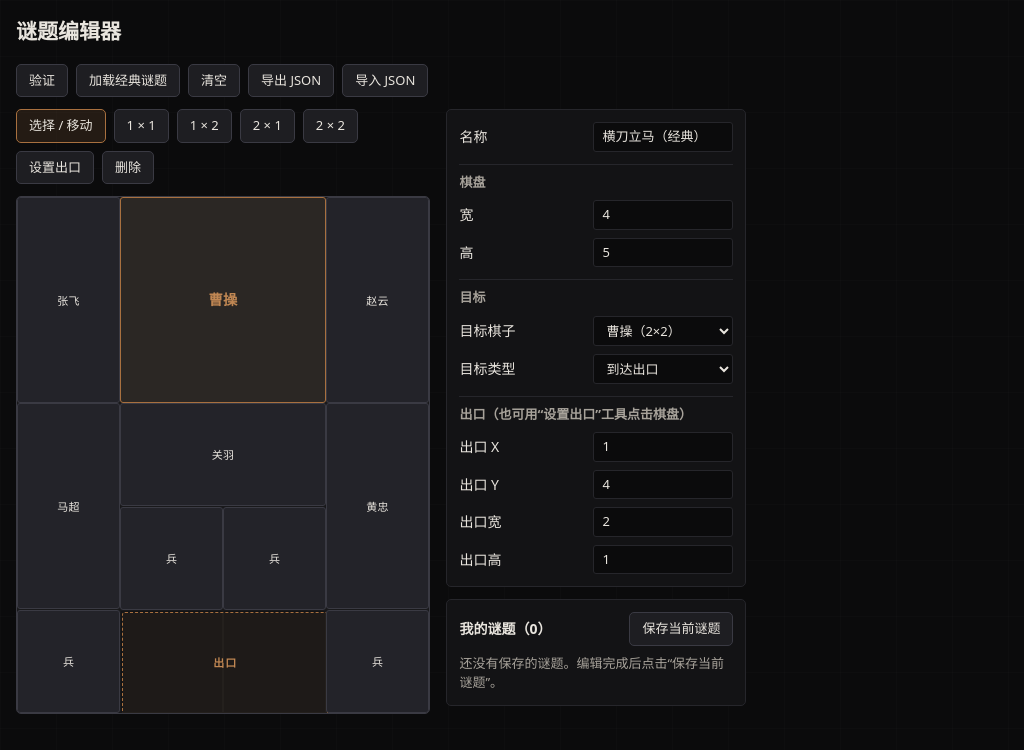
Test: 编辑器选中态 › 属性面板同步标出「已选中」并指出它所在的格位
Press the mouse on the button with aria-label "编辑棋子 曹操" at (223, 300), box [120,197,326,403]
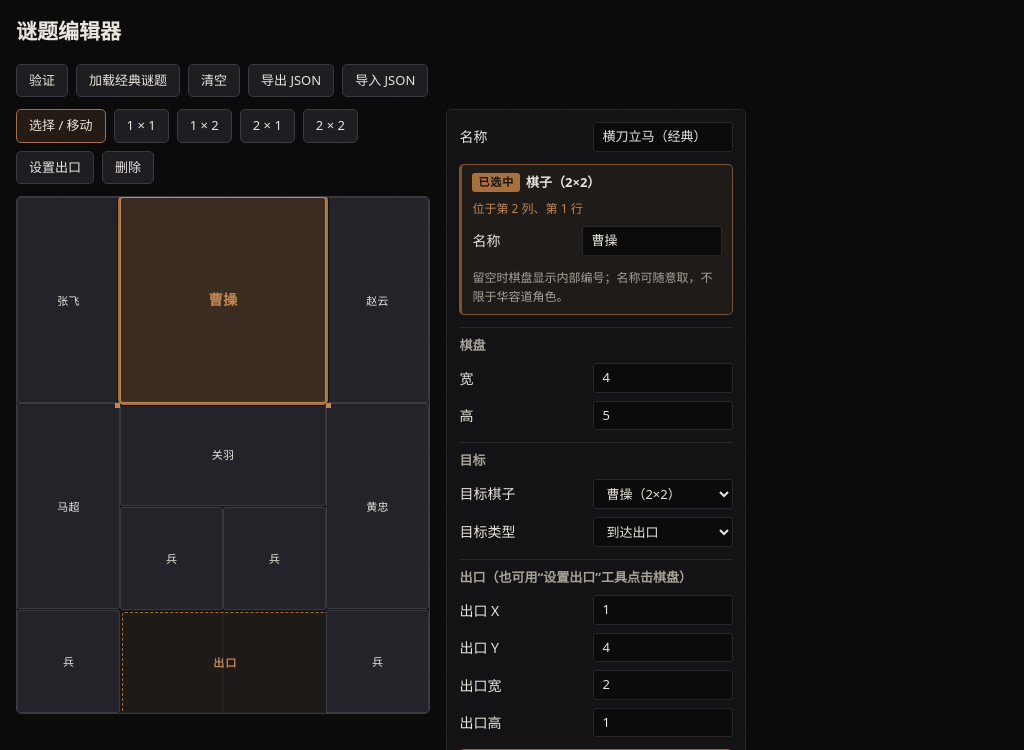
Result: the text "已选中" is shown at [472,173,520,192]
Result: the element showing "已选中 棋子（2×2） 位于第 2 列、第 1 行 名称 留空时棋盘显示内部编号；名称可随意取，不限于华容道角色。" is shown at [459,164,733,315]
Result: the text "第 2 列、第 1 行" is shown at [472,200,583,217]
